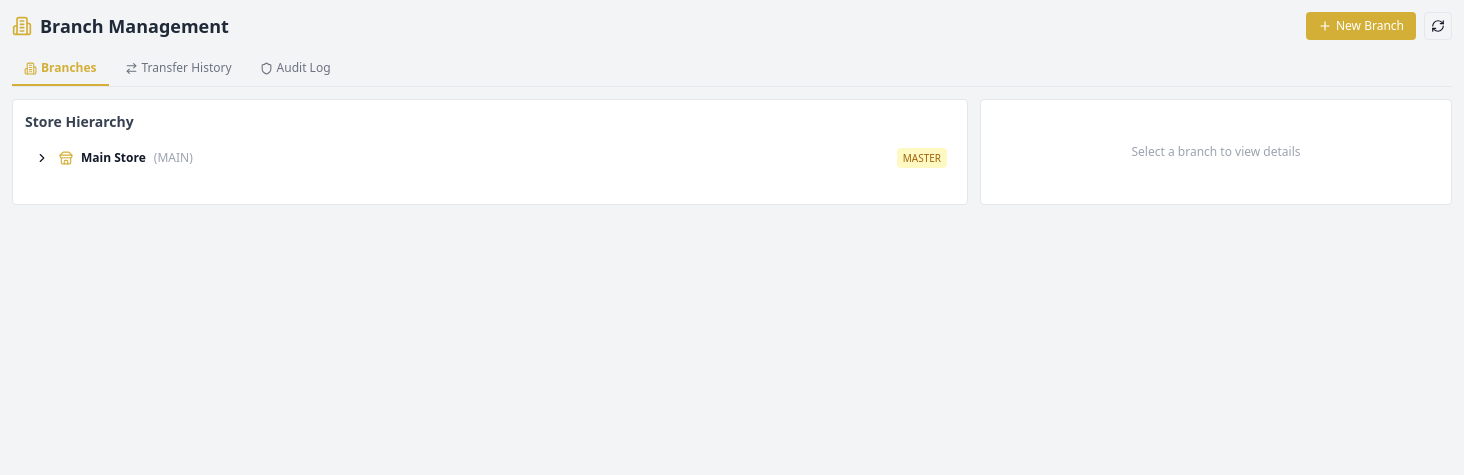
Test case: BranchManagement — Branch Stats › shows stats when a branch is selected
Click the text "Main Store": (113, 158) [81,150,146,166]
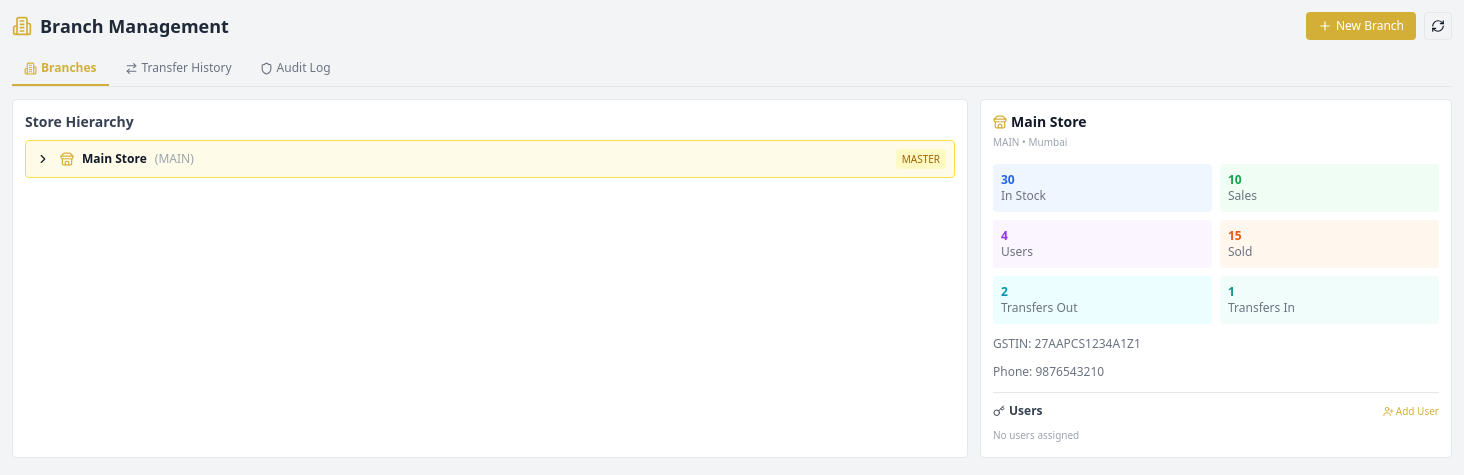
expect the text "30" is shown: met, box [1001,171,1015,188]
expect the text "In Stock" is shown: met, box [1001,187,1046,204]
